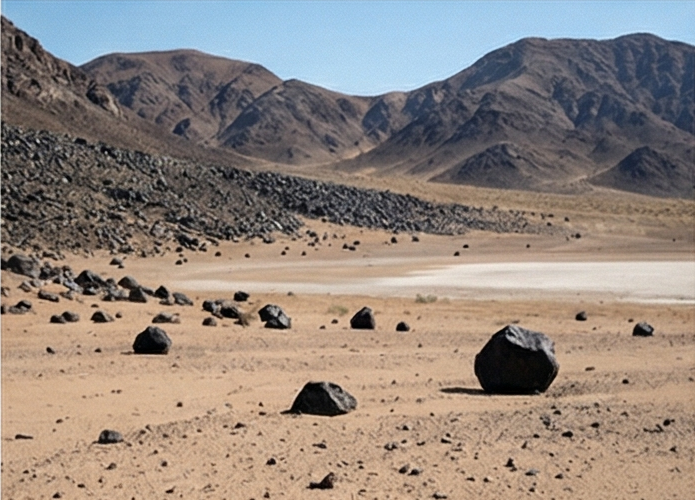rocks: (0, 255, 199, 327), (473, 324, 559, 394), (284, 380, 354, 415), (131, 325, 172, 354), (83, 83, 118, 115), (4, 252, 38, 277), (257, 303, 290, 328), (73, 269, 107, 289), (348, 305, 375, 329), (306, 472, 335, 489), (174, 232, 199, 250), (217, 302, 243, 319), (95, 428, 122, 443), (118, 275, 142, 290), (126, 286, 148, 302), (150, 311, 179, 323), (631, 321, 653, 336), (89, 309, 114, 322), (36, 289, 59, 302), (397, 462, 420, 475), (171, 291, 192, 305), (201, 299, 220, 314), (152, 284, 169, 299), (59, 310, 80, 321), (237, 313, 253, 326), (232, 290, 248, 301), (14, 299, 31, 309), (16, 281, 31, 292), (574, 309, 588, 320), (395, 321, 410, 331), (62, 289, 77, 299), (201, 316, 215, 326), (109, 257, 124, 266), (12, 433, 32, 439), (231, 421, 246, 429), (44, 346, 54, 354)
